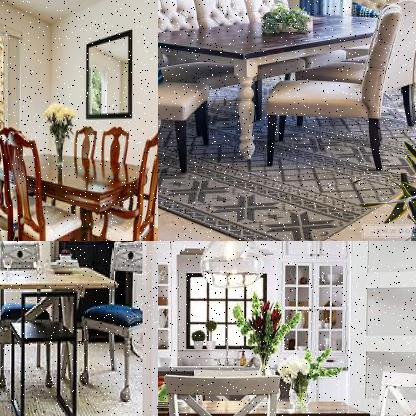table: (158, 9, 408, 162), (0, 265, 120, 415), (0, 147, 151, 240)
